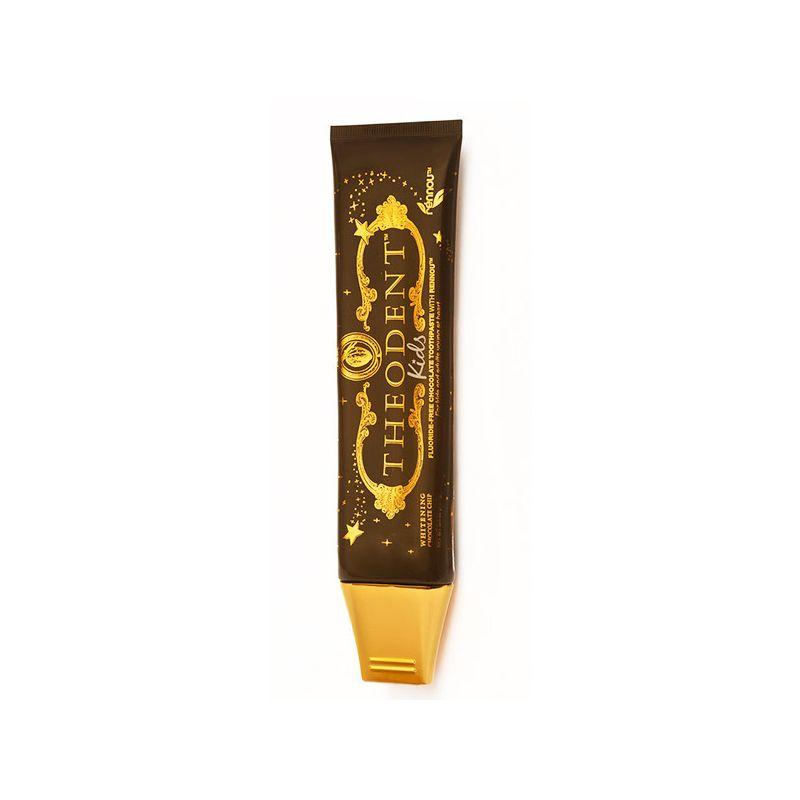toothpaste: (314, 102, 499, 719)
